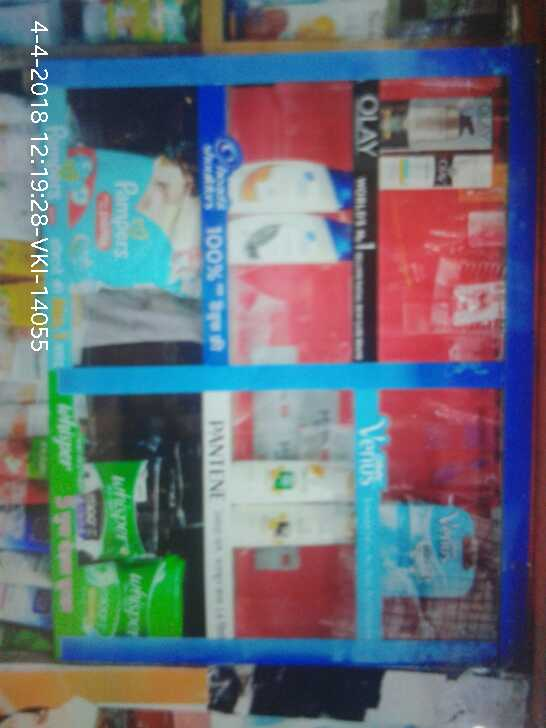venus: (382, 504, 474, 599)
